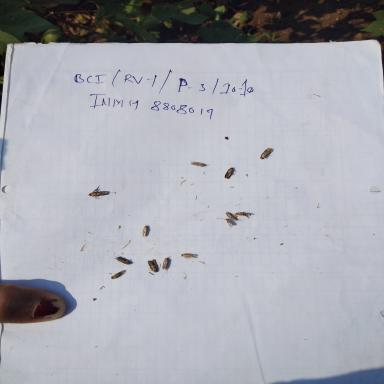pbw: (86, 184, 110, 200), (256, 147, 276, 162), (110, 254, 132, 266), (222, 165, 238, 180), (136, 224, 152, 239), (160, 255, 172, 275), (224, 210, 241, 224), (106, 268, 127, 279), (146, 258, 160, 274), (222, 216, 237, 230), (179, 252, 199, 262), (234, 210, 253, 220), (189, 160, 208, 169)
